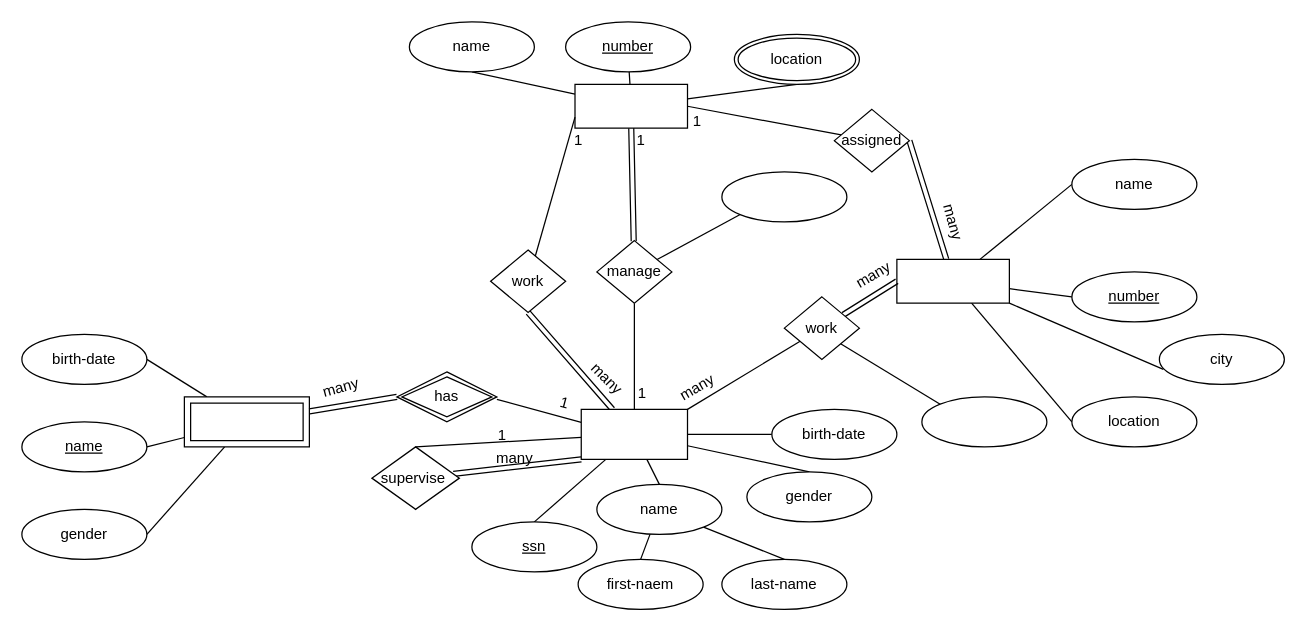
The diagram is 1306 pixels wide and 631 high, and some of its shapes have lost their labels. Here are the shapes that lost their labels. From the top down, the centre of each, then its label:
the point at 631,105: department
the point at 784,196: hiring-date
the point at 952,280: project
the point at 246,421: dependent
the point at 634,433: employee
the point at 984,421: working-hours
